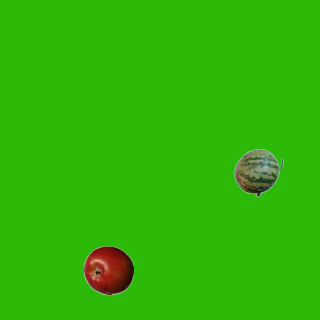Apple Braeburn: (83, 245, 133, 295)
Watermelon: (233, 147, 283, 197)
